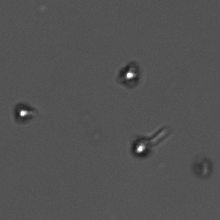Dead Cell: (192, 156, 214, 180)
Living Cell: (12, 97, 38, 127), (118, 59, 140, 88), (129, 134, 151, 158)
